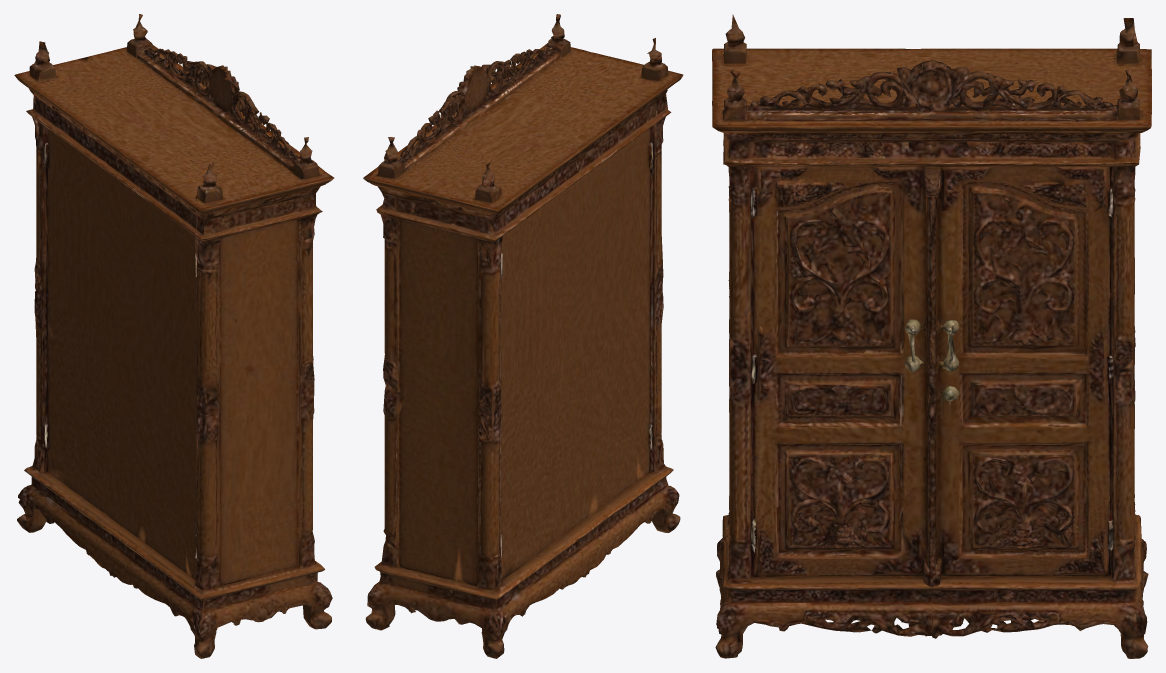
Rendered from Lemari-Ukir-Sulur-Bugis-v1.glb.
3 renders of one model, left to right at view 1: azimuth 30°, elevation 25°; view 2: azimuth 150°, elevation 25°; view 3: azimuth 270°, elevation 25°, orthographic. The views are drawn at different scales.
Visible parts, largest first — view 1: tripo_node_c773456f-f71d-4274-8481-0493348e4a1d; view 2: tripo_node_c773456f-f71d-4274-8481-0493348e4a1d; view 3: tripo_node_c773456f-f71d-4274-8481-0493348e4a1d.
Part boxes in pixels (left/top/right/bottom): tripo_node_c773456f-f71d-4274-8481-0493348e4a1d: left=14, top=14, right=334, bottom=658; tripo_node_c773456f-f71d-4274-8481-0493348e4a1d: left=363, top=14, right=683, bottom=658; tripo_node_c773456f-f71d-4274-8481-0493348e4a1d: left=712, top=14, right=1151, bottom=658.
Size of the model in its own units: 0.2884 by 0.9811 by 0.6626.
Materials: 1 (1 with a texture image).
